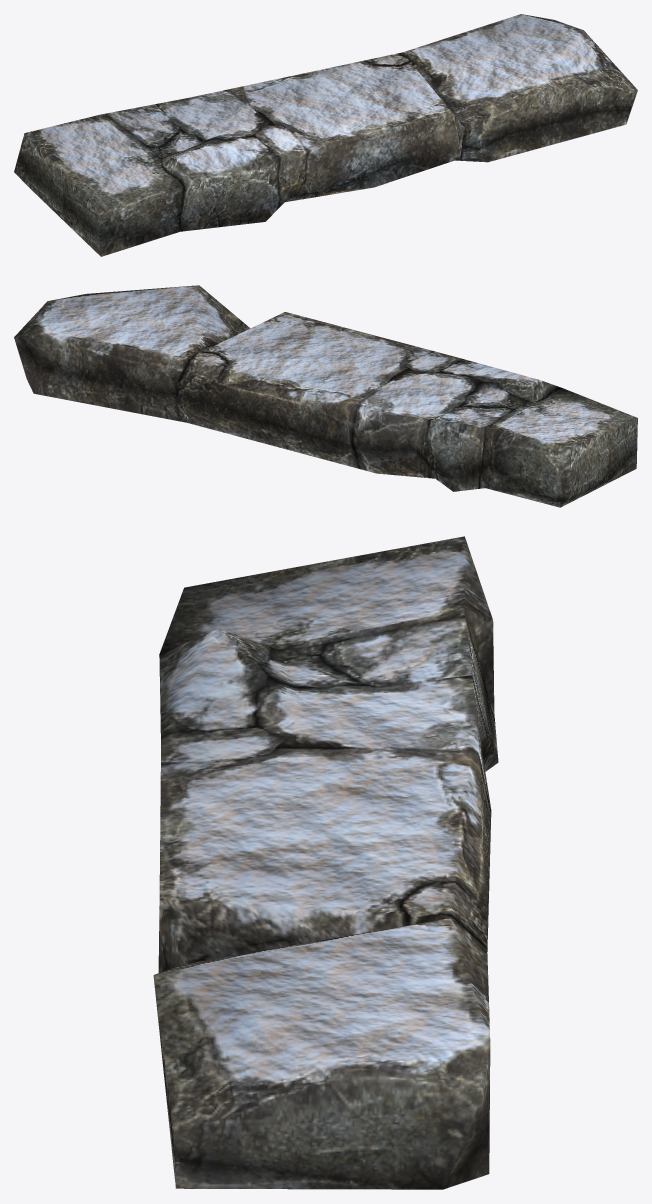
Rendered from Stairs1A_LOD.fbx.
The picture shows the model from 3 angles, top to bottom: view 1: azimuth 30°, elevation 25°; view 2: azimuth 150°, elevation 25°; view 3: azimuth 270°, elevation 25°; orthographic projection. The views are drawn at different scales.
Parts seen in each view (by area): view 1: polySurface24; view 2: polySurface24; view 3: polySurface24.
Boxes of the visible parts, box(x1,y1,x2,y2) form: polySurface24: box(14, 14, 637, 256); polySurface24: box(14, 285, 637, 507); polySurface24: box(153, 536, 498, 1189).
Size of the model in its own units: 5.85 by 0.7922 by 1.6.
